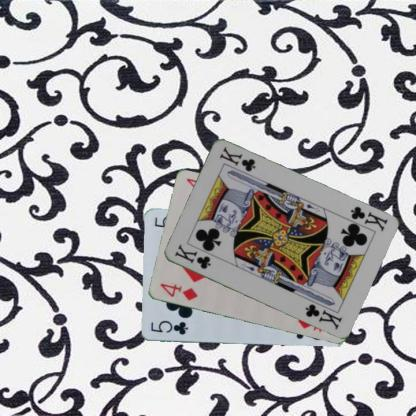4d: (157, 281, 199, 302)
5c: (148, 318, 189, 336)
Kc: (172, 241, 212, 271), (348, 204, 388, 233)
